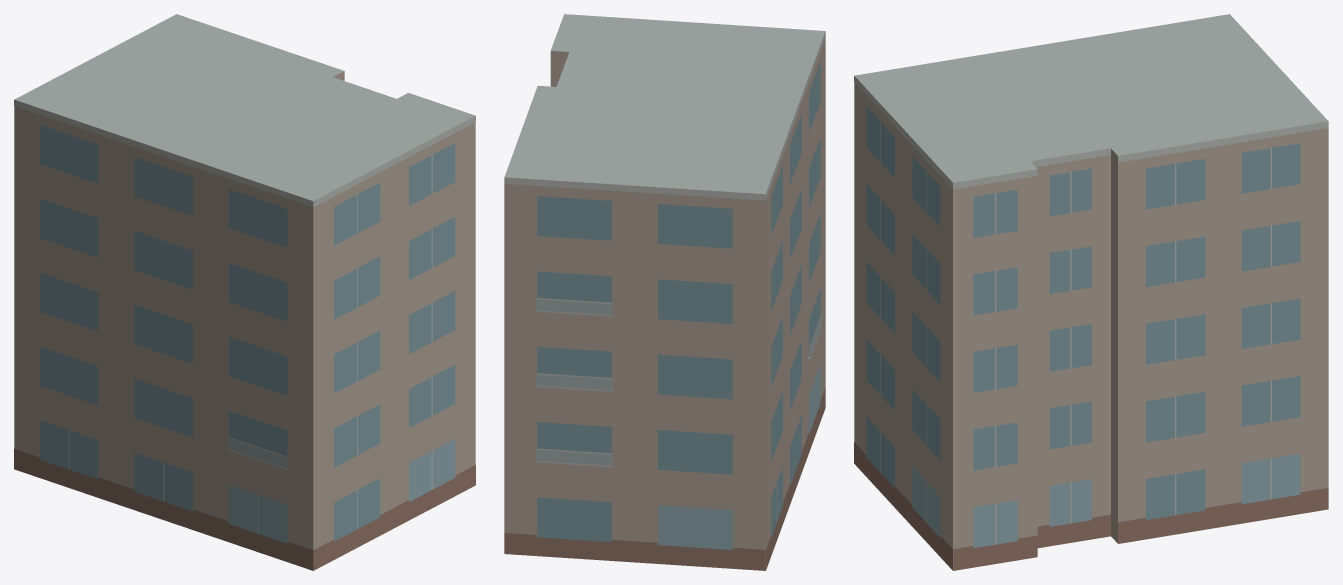
File: survey-upis-32965429.glb
3 renders of one model, left to right at view 1: azimuth 30°, elevation 25°; view 2: azimuth 150°, elevation 25°; view 3: azimuth 270°, elevation 25°, orthographic. The views are drawn at different scales.
Visible parts, largest first — view 1: survey-upis-32965429.tmp; view 2: survey-upis-32965429.tmp; view 3: survey-upis-32965429.tmp.
Boxes of the visible parts, x1=… form: survey-upis-32965429.tmp: x1=14, y1=14, x2=475, y2=570; survey-upis-32965429.tmp: x1=504, y1=14, x2=825, y2=570; survey-upis-32965429.tmp: x1=854, y1=14, x2=1328, y2=570.
Bounding box in the file's own units: 13.26 × 14.2 × 15.74.
